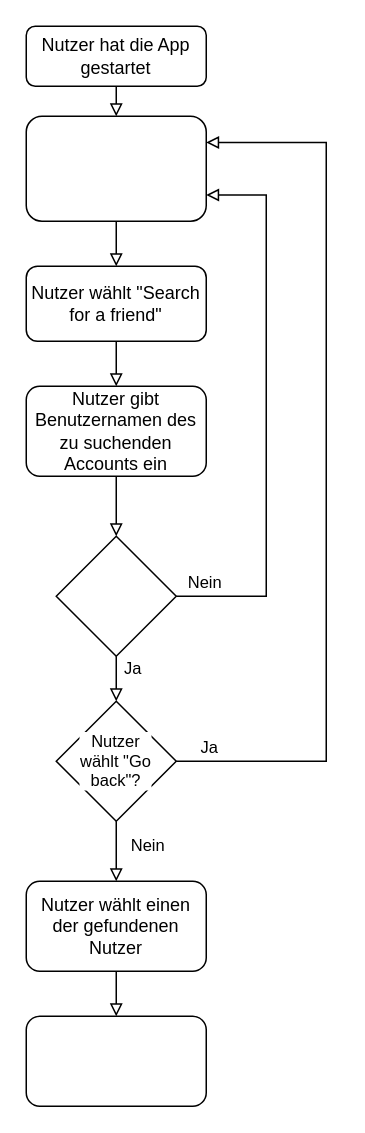
Image size: 365x1133. Some labels were removed from this diagram. Here are the shapes that lost their labels. From the top down, the centre of each, then its label:
At (x=115, y=168): "Nutzer befindet sich im Hauptmenü (nach Login oder Registrierung)".
At (x=115, y=595): "Nutzer gefunden?".
At (x=115, y=1060): "Anfrage an gewählten Nutzer erfolgreich versendet".
